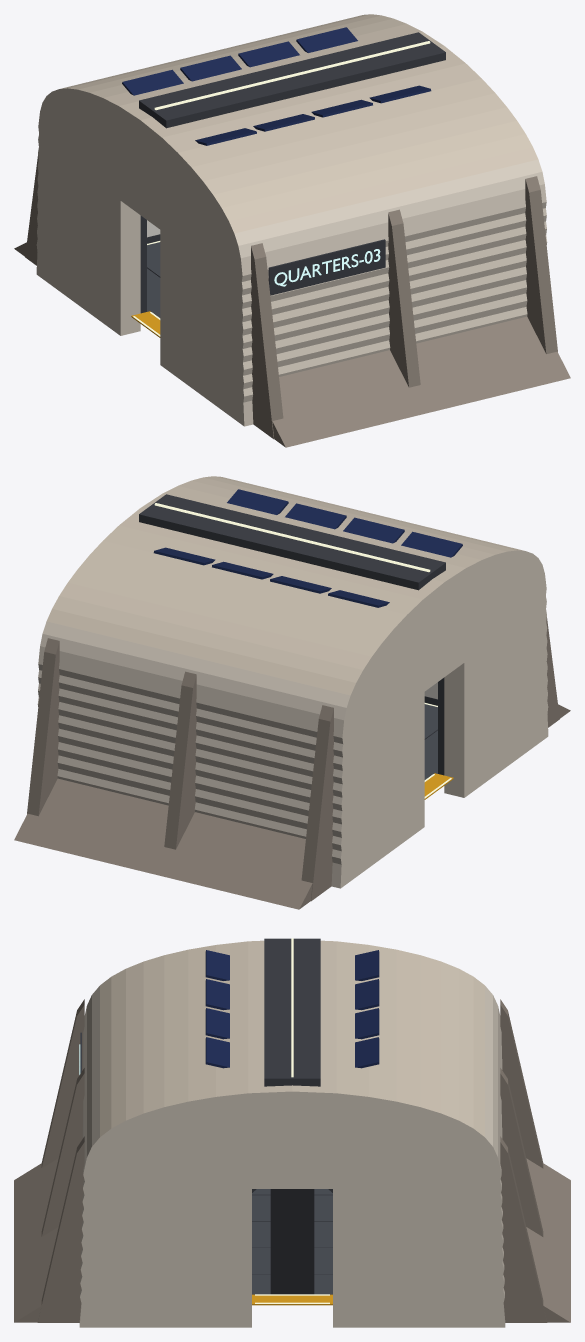
File: Quarters.fbx
The picture shows the model from 3 angles, top to bottom: view 1: azimuth 30°, elevation 25°; view 2: azimuth 150°, elevation 25°; view 3: azimuth 270°, elevation 25°; orthographic projection. The views are drawn at different scales.
Visible parts, largest first — view 1: Quarters solid, Quarters trim; view 2: Quarters solid, Quarters trim; view 3: Quarters solid, Quarters trim.
Part boxes in pixels (x1=…): Quarters solid: x1=14, y1=14, x2=570, y2=447; Quarters trim: x1=122, y1=27, x2=445, y2=337; Quarters solid: x1=14, y1=476, x2=570, y2=909; Quarters trim: x1=139, y1=489, x2=462, y2=799; Quarters solid: x1=14, y1=940, x2=570, y2=1327; Quarters trim: x1=79, y1=938, x2=379, y2=1305.
Size of the model in its own units: 5.76 by 4.32 by 8.92.
